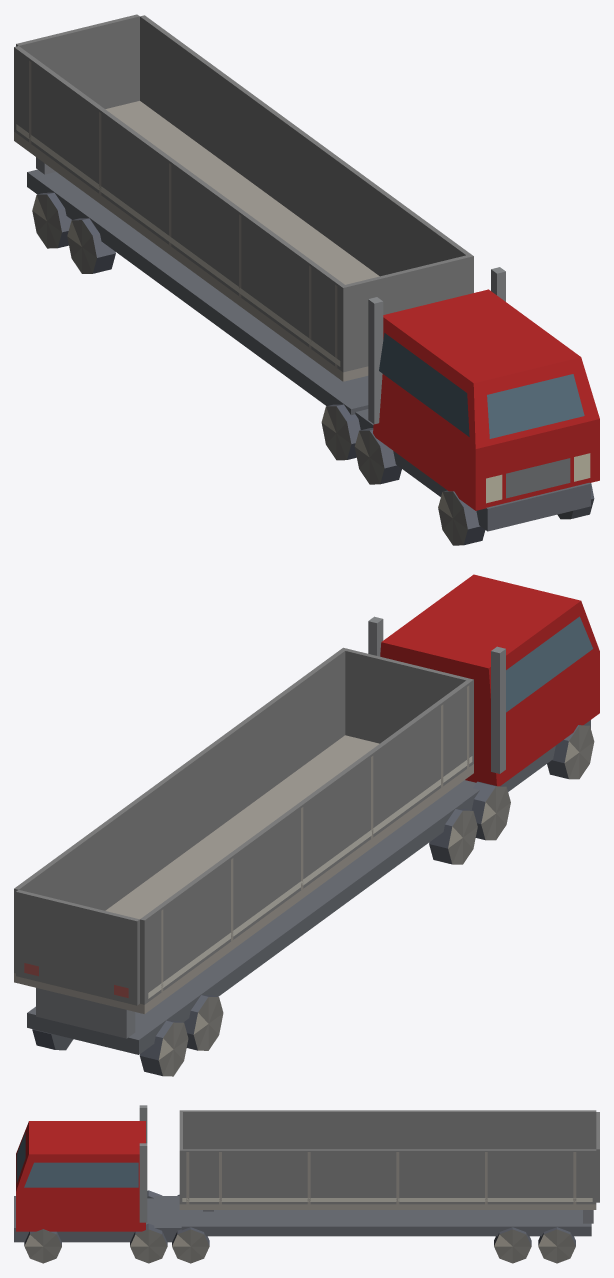
The model's file is grain_hauler_red.glb.
3 renders of one model, top to bottom at view 1: azimuth 30°, elevation 25°; view 2: azimuth 150°, elevation 25°; view 3: azimuth 270°, elevation 25°, orthographic. The views are drawn at different scales.
Parts seen in each view (by area): view 1: DumpBed_Visual, Tractor, Trailer_Hitch, Tailgate_Pivot, Tire_3_L, Tire_1_L, Tire_0_L, Tire_2_L, Tire_4_L; view 2: DumpBed_Visual, Tractor, Trailer_Hitch, Tailgate_Pivot, Tire_4_L, Tire_2_L, Tire_1_L, Tire_0_L, Tire_3_L; view 3: DumpBed_Visual, Tractor, Trailer_Hitch, Tire_1_R, Tire_2_R, Tire_3_R, Tire_4_R, Tire_0_R, Tailgate_Pivot.
Boxes of the visible parts, left/top/right/bottom form: DumpBed_Visual: left=14, top=15, right=473, bottom=381; Tractor: left=355, top=267, right=599, bottom=531; Trailer_Hitch: left=27, top=157, right=368, bottom=415; Tailgate_Pivot: left=16, top=14, right=139, bottom=108; Tire_3_L: left=67, top=218, right=115, bottom=273; Tire_1_L: left=354, top=428, right=401, bottom=484; Tire_0_L: left=438, top=490, right=485, bottom=545; Tire_2_L: left=321, top=404, right=360, bottom=460; Tire_4_L: left=32, top=192, right=71, bottom=248; DumpBed_Visual: left=14, top=647, right=473, bottom=1014; Tractor: left=368, top=574, right=599, bottom=810; Trailer_Hitch: left=27, top=797, right=462, bottom=1054; Tailgate_Pivot: left=16, top=890, right=139, bottom=1005; Tire_4_L: left=139, top=1020, right=188, bottom=1076; Tire_2_L: left=429, top=808, right=477, bottom=864; Tire_1_L: left=472, top=781, right=510, bottom=840; Tire_0_L: left=547, top=724, right=594, bottom=779; Tire_3_L: left=183, top=995, right=223, bottom=1050; DumpBed_Visual: left=179, top=1110, right=596, bottom=1209; Tractor: left=14, top=1105, right=181, bottom=1242; Trailer_Hitch: left=181, top=1210, right=593, bottom=1236; Tire_1_R: left=130, top=1223, right=167, bottom=1263; Tire_2_R: left=172, top=1227, right=209, bottom=1263; Tire_3_R: left=494, top=1227, right=531, bottom=1263; Tire_4_R: left=538, top=1227, right=575, bottom=1263; Tire_0_R: left=24, top=1229, right=61, bottom=1263; Tailgate_Pivot: left=596, top=1112, right=599, bottom=1202.
Size of the model in its own units: 2.51 by 3.39 by 15.21.
